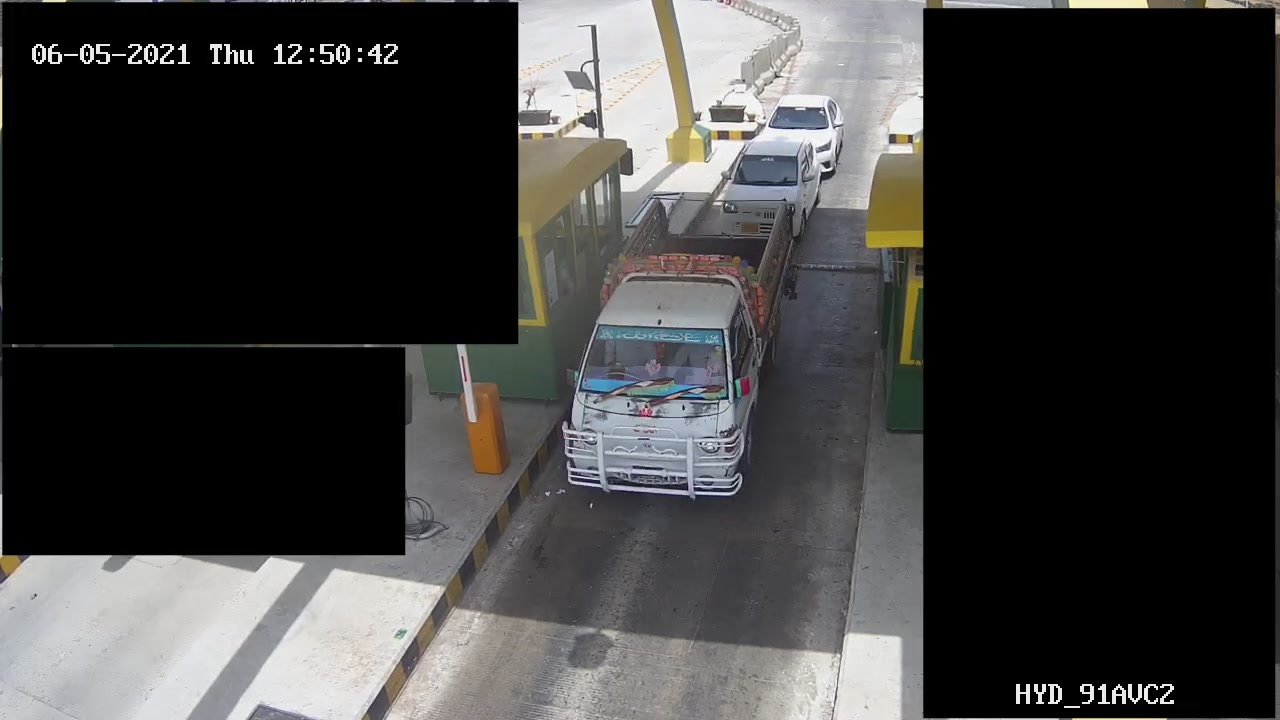F2: (561, 209, 790, 500)
